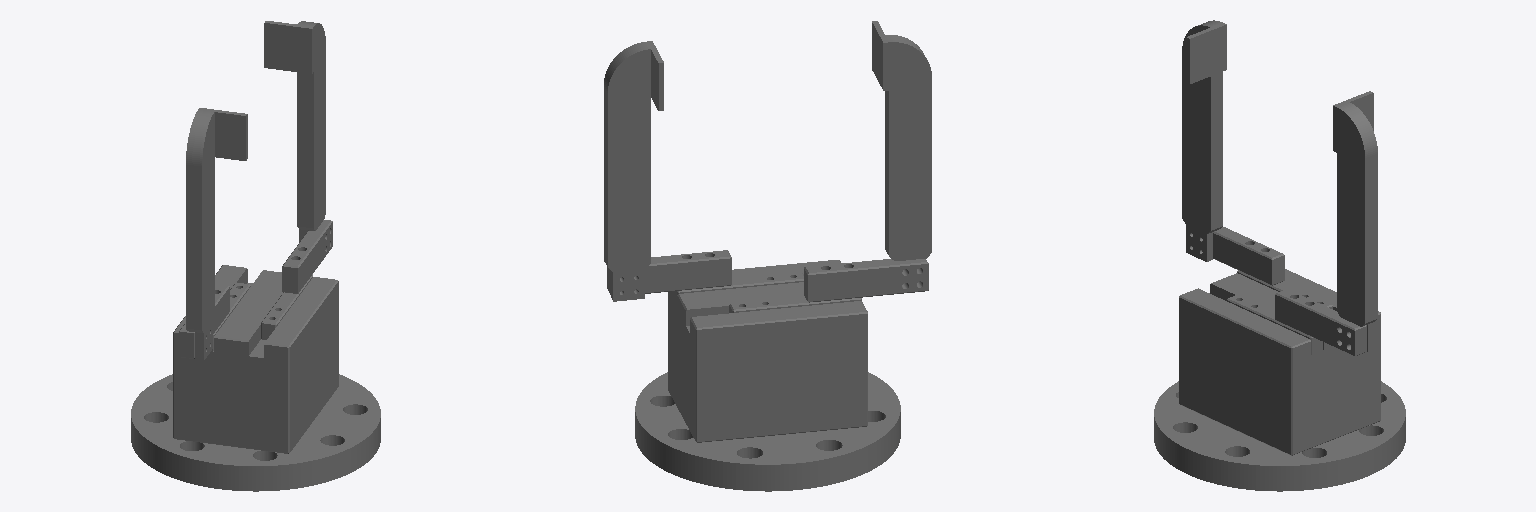
robot.urdf — custom_robots:
<?xml version="1.0" ?>
<robot name="custom_robots" version="1.0">
  <material name="black">
    <color rgba="0.0 0.0 0.0 1.0"/>
  </material>
  <material name="blue">
    <color rgba="0.0 0.0 0.8 1.0"/>
  </material>
  <material name="green">
    <color rgba="0.0 0.8 0.0 1.0"/>
  </material>
  <material name="grey_">
    <color rgba="0.2 0.2 0.2 1.0"/>
  </material>
  <material name="orange">
    <color rgba="1.0 0.423529411765 0.0392156862745 1.0"/>
  </material>
  <material name="brown">
    <color rgba="0.870588235294 0.811764705882 0.764705882353 1.0"/>
  </material>
  <material name="red">
    <color rgba="0.8 0.0 0.0 1.0"/>
  </material>
  <material name="white">
    <color rgba="1.0 1.0 1.0 1.0"/>
  </material>
  <material name="metal">
    <color rgba="0.76862745098 0.749019607843 0.729411764706 1.0"/>
  </material>
  <material name="metal_grey">
    <color rgba="0.501960784314 0.501960784314 0.501960784314 1.0"/>
  </material>
  <material name="metal_white">
    <color rgba="0.866666666667 0.866666666667 0.890196078431 1.0"/>
  </material>
  <link name="base_link"/>
  <joint name="indy0_joint_base_link" type="fixed">
    <origin rpy="0.0 0.0 5.45268230252" xyz="1.26963465725 0.939580893056 0.670907390887"/>
    <parent link="base_link"/>
    <child link="indy0_link0"/>
  </joint>
  <link name="indy0_link0">
    <inertial>
      <origin rpy="0.0 0.0 0.0" xyz="0.0 0.0 0.0"/>
      <mass value="1.59306955"/>
      <inertia ixx="0.00572623" ixy="2.51e-06" ixz="-0.0001138" iyy="0.00558959" iyz="-1.4e-07" izz="0.00966674"/>
    </inertial>
    <visual>
      <origin rpy="0.0 0.0 0.0" xyz="0.0 0.0 0.0"/>
      <geometry>
        <mesh filename="package://indy7_description/meshes/stl/Indy7_0.stl"/>
      </geometry>
      <material name="metal_grey"/>
    </visual>
    <collision>
      <origin rpy="-0.0 1.57079633 0.0" xyz="-0.1 0.0 0.03"/>
      <geometry>
        <cylinder length="0.2" radius="0.05"/>
      </geometry>
    </collision>
  </link>
  <link name="indy0_link1">
    <inertial>
      <origin rpy="0.0 0.0 0.0" xyz="0.0 0.0 0.0"/>
      <mass value="11.8030102"/>
      <inertia ixx="0.15418559" ixy="-2.35e-06" ixz="1.739e-05" iyy="0.12937017" iyz="-0.04854267" izz="0.05964415"/>
    </inertial>
    <visual>
      <origin rpy="0.0 0.0 0.0" xyz="0.0 0.0 0.0"/>
      <geometry>
        <mesh filename="package://indy7_description/meshes/stl/Indy7_1.stl"/>
      </geometry>
      <material name="metal_grey"/>
    </visual>
    <collision>
      <origin rpy="0.0 0.0 0.0" xyz="0.0 0.0 0.072"/>
      <geometry>
        <cylinder length="0.3" radius="0.1"/>
      </geometry>
    </collision>
  </link>
  <link name="indy0_link2">
    <inertial>
      <origin rpy="0.0 0.0 0.0" xyz="0.0 0.0 0.0"/>
      <mass value="7.99292141"/>
      <inertia ixx="0.2935698" ixy="-4e-07" ixz="1.441e-05" iyy="0.28094142" iyz="0.03727972" izz="0.03620609"/>
    </inertial>
    <visual>
      <origin rpy="0.0 0.0 0.0" xyz="0.0 0.0 0.0"/>
      <geometry>
        <mesh filename="package://indy7_description/meshes/stl/Indy7_2.stl"/>
      </geometry>
      <material name="metal_grey"/>
    </visual>
    <collision>
      <origin rpy="1.57079632679 0.0 -1.57079632679" xyz="-0.225 0.0 0.09"/>
      <geometry>
        <cylinder length="0.45" radius="0.073"/>
      </geometry>
    </collision>
    <collision>
      <origin rpy="0.0 0.0 0.0" xyz="0.0 0.0 -0.01"/>
      <geometry>
        <cylinder length="0.2" radius="0.085"/>
      </geometry>
    </collision>
  </link>
  <link name="indy0_link3">
    <inertial>
      <origin rpy="0.0 0.0 0.0" xyz="0.0 0.0 0.0"/>
      <mass value="2.99134127"/>
      <inertia ixx="0.03424593" ixy="1.49e-06" ixz="7.24e-06" iyy="0.03406024" iyz="0.00186009" izz="0.00450477"/>
    </inertial>
    <visual>
      <origin rpy="0.0 0.0 0.0" xyz="0.0 0.0 0.0"/>
      <geometry>
        <mesh filename="package://indy7_description/meshes/stl/Indy7_3.stl"/>
      </geometry>
      <material name="metal_grey"/>
    </visual>
    <collision>
      <origin rpy="0.0 0.0 0.0" xyz="0.0 0.0 0.03"/>
      <geometry>
        <cylinder length="0.2" radius="0.065"/>
      </geometry>
    </collision>
  </link>
  <link name="indy0_link4">
    <inertial>
      <origin rpy="0.0 0.0 0.0" xyz="0.0 0.0 0.0"/>
      <mass value="2.12317035"/>
      <inertia ixx="0.00670405" ixy="3.75e-06" ixz="1.5e-06" iyy="0.00279246" iyz="-0.00127967" izz="0.00619341"/>
    </inertial>
    <visual>
      <origin rpy="0.0 0.0 0.0" xyz="0.0 0.0 0.0"/>
      <geometry>
        <mesh filename="package://indy7_description/meshes/stl/Indy7_4.stl"/>
      </geometry>
      <material name="metal_grey"/>
    </visual>
    <collision>
      <origin rpy="0.0 0.0 0.0" xyz="0.0 0.0 -0.092"/>
      <geometry>
        <cylinder length="0.35" radius="0.06"/>
      </geometry>
    </collision>
  </link>
  <link name="indy0_link5">
    <inertial>
      <origin rpy="0.0 0.0 0.0" xyz="0.0 0.0 0.0"/>
      <mass value="2.28865091"/>
      <inertia ixx="0.00994891" ixy="1.4e-07" ixz="3.21e-06" iyy="0.00978189" iyz="-0.00093546" izz="0.00271492"/>
    </inertial>
    <visual>
      <origin rpy="0.0 0.0 0.0" xyz="0.0 0.0 0.0"/>
      <geometry>
        <mesh filename="package://indy7_description/meshes/stl/Indy7_5.stl"/>
      </geometry>
      <material name="metal_grey"/>
    </visual>
    <collision>
      <origin rpy="0.0 0.0 0.0" xyz="-0.0 0.0 -0.0225"/>
      <geometry>
        <cylinder length="0.183" radius="0.055"/>
      </geometry>
    </collision>
  </link>
  <link name="indy0_link6">
    <inertial>
      <origin rpy="0.0 0.0 0.0" xyz="0.0 0.0 0.0"/>
      <mass value="0.40083918"/>
      <inertia ixx="0.00043534" ixy="1.3e-07" ixz="-2e-08" iyy="0.00044549" iyz="5.1e-07" izz="0.00059634"/>
    </inertial>
    <visual>
      <origin rpy="0.0 0.0 0.0" xyz="0.0 0.0 0.0"/>
      <geometry>
        <mesh filename="package://indy7_description/meshes/stl/Indy7_6.stl"/>
      </geometry>
      <material name="metal_grey"/>
    </visual>
    <collision>
      <origin rpy="0.0 0.0 0.0" xyz="0.0 0.0 -0.038"/>
      <geometry>
        <cylinder length="0.25" radius="0.06"/>
      </geometry>
    </collision>
  </link>
  <link name="indy0_tcp">
    <visual>
      <origin rpy="0.0 0.0 1.570796" xyz="0.0 0.0 0.0"/>
      <geometry>
        <mesh filename="package://my_mesh/meshes/stl/indy_gripper_asm2_res.STL"/>
      </geometry>
      <material name="metal_grey"/>
    </visual>
    <collision>
      <origin rpy="0.0 0.0 0.0" xyz="0.005 0.044 0.1"/>
      <geometry>
        <cylinder length="0.08" radius="0.016"/>
      </geometry>
    </collision>
    <collision>
      <origin rpy="0.0 0.0 0.0" xyz="-0.005 0.044 0.1"/>
      <geometry>
        <cylinder length="0.08" radius="0.016"/>
      </geometry>
    </collision>
    <collision>
      <origin rpy="0.0 0.0 0.0" xyz="0.005 -0.044 0.1"/>
      <geometry>
        <cylinder length="0.08" radius="0.016"/>
      </geometry>
    </collision>
    <collision>
      <origin rpy="0.0 0.0 0.0" xyz="-0.005 -0.044 0.1"/>
      <geometry>
        <cylinder length="0.08" radius="0.016"/>
      </geometry>
    </collision>
  </link>
  <joint name="indy0_joint0" type="revolute">
    <origin rpy="0.0 0.0 0.0" xyz="0.0 0.0 0.0775"/>
    <axis xyz="0.0 0.0 1.0"/>
    <parent link="indy0_link0"/>
    <child link="indy0_link1"/>
    <limit effort="3.14159265359" lower="-3.05432619099" upper="3.05432619099" velocity="1.308996939"/>
  </joint>
  <joint name="indy0_joint1" type="revolute">
    <origin rpy="1.57079632679 1.57079632679 0.0" xyz="0.0 -0.109 0.222"/>
    <axis xyz="0.0 0.0 1.0"/>
    <parent link="indy0_link1"/>
    <child link="indy0_link2"/>
    <limit effort="3.14159265359" lower="-3.05432619099" upper="3.05432619099" velocity="1.308996939"/>
  </joint>
  <joint name="indy0_joint2" type="revolute">
    <origin rpy="0.0 0.0 0.0" xyz="-0.45 0.0 -0.0305"/>
    <axis xyz="0.0 0.0 1.0"/>
    <parent link="indy0_link2"/>
    <child link="indy0_link3"/>
    <limit effort="3.14159265359" lower="-3.05432619099" upper="3.05432619099" velocity="1.308996939"/>
  </joint>
  <joint name="indy0_joint3" type="revolute">
    <origin rpy="-1.57079632679 0.0 1.57079632679" xyz="-0.267 0.0 -0.075"/>
    <axis xyz="0.0 0.0 1.0"/>
    <parent link="indy0_link3"/>
    <child link="indy0_link4"/>
    <limit effort="3.14159265359" lower="-3.05432619099" upper="3.05432619099" velocity="1.57079632679"/>
  </joint>
  <joint name="indy0_joint4" type="revolute">
    <origin rpy="1.57079632679 1.57079632679 0.0" xyz="0.0 -0.114 0.083"/>
    <axis xyz="0.0 0.0 1.0"/>
    <parent link="indy0_link4"/>
    <child link="indy0_link5"/>
    <limit effort="3.14159265359" lower="-3.05432619099" upper="3.05432619099" velocity="1.57079632679"/>
  </joint>
  <joint name="indy0_joint5" type="revolute">
    <origin rpy="-1.57079632679 0.0 1.57079632679" xyz="-0.168 0.0 0.069"/>
    <axis xyz="0.0 0.0 1.0"/>
    <parent link="indy0_link5"/>
    <child link="indy0_link6"/>
    <limit effort="3.14159265359" lower="-3.75245789179" upper="3.75245789179" velocity="1.57079632679"/>
  </joint>
  <joint name="indy0_tcp" type="fixed">
    <origin rpy="0.0 0.0 0.0" xyz="0.0 0.0 0.06"/>
    <parent link="indy0_link6"/>
    <child link="indy0_tcp"/>
  </joint>
  <transmission name="indy0_tran0">
    <type>transmission_interface/SimpleTransmission</type>
    <joint name="indy0_joint0">
      <hardwareInterface>PositionJointInterface</hardwareInterface>
    </joint>
    <actuator name="indy0_motor0">
      <mechanicalReduction>1.0</mechanicalReduction>
    </actuator>
  </transmission>
  <transmission name="indy0_tran1">
    <type>transmission_interface/SimpleTransmission</type>
    <joint name="indy0_joint1">
      <hardwareInterface>PositionJointInterface</hardwareInterface>
    </joint>
    <actuator name="indy0_motor1">
      <mechanicalReduction>1.0</mechanicalReduction>
    </actuator>
  </transmission>
  <transmission name="indy0_tran2">
    <type>transmission_interface/SimpleTransmission</type>
    <joint name="indy0_joint2">
      <hardwareInterface>PositionJointInterface</hardwareInterface>
    </joint>
    <actuator name="indy0_motor2">
      <mechanicalReduction>1.0</mechanicalReduction>
    </actuator>
  </transmission>
  <transmission name="indy0_tran3">
    <type>transmission_interface/SimpleTransmission</type>
    <joint name="indy0_joint3">
      <hardwareInterface>PositionJointInterface</hardwareInterface>
    </joint>
    <actuator name="indy0_motor3">
      <mechanicalReduction>1.0</mechanicalReduction>
    </actuator>
  </transmission>
  <transmission name="indy0_tran4">
    <type>transmission_interface/SimpleTransmission</type>
    <joint name="indy0_joint4">
      <hardwareInterface>PositionJointInterface</hardwareInterface>
    </joint>
    <actuator name="indy0_motor4">
      <mechanicalReduction>1.0</mechanicalReduction>
    </actuator>
  </transmission>
  <transmission name="indy0_tran5">
    <type>transmission_interface/SimpleTransmission</type>
    <joint name="indy0_joint5">
      <hardwareInterface>PositionJointInterface</hardwareInterface>
    </joint>
    <actuator name="indy0_motor5">
      <mechanicalReduction>1.0</mechanicalReduction>
    </actuator>
  </transmission>
  <joint name="panda1_joint_base_link" type="fixed">
    <origin rpy="0.0 -0.0 0.0" xyz="-0.0 -0.0 -0.0"/>
    <parent link="panda1_link0"/>
    <child link="base_link"/>
  </joint>
  <link name="panda1_link0">
    <visual>
      <origin rpy="0.0 -0.0 0.0" xyz="0.0 0.0 0.0"/>
      <geometry>
        <mesh filename="package://franka_description/meshes/visual/link0.dae"/>
      </geometry>
    </visual>
    <collision>
      <origin rpy="3.14159265 -1.37340076987 3.14159265" xyz="-0.0299999993294 0.0 0.0299999993294"/>
      <geometry>
        <cylinder length="0.102" radius="0.1"/>
      </geometry>
    </collision>
    <collision>
      <origin rpy="1.57079633 -0.0 0.0" xyz="-0.0500000007451 0.0 0.0299999993294"/>
      <geometry>
        <cylinder length="0.3" radius="0.05"/>
      </geometry>
    </collision>
  </link>
  <link name="panda1_link1">
    <visual>
      <origin rpy="0.0 -0.0 0.0" xyz="0.0 0.0 0.0"/>
      <geometry>
        <mesh filename="package://franka_description/meshes/visual/link1.dae"/>
      </geometry>
    </visual>
    <collision>
      <origin rpy="-2.71183038127 -0.0 0.0" xyz="0.0 -0.027499999851 -0.0750000029802"/>
      <geometry>
        <cylinder length="0.132" radius="0.11"/>
      </geometry>
    </collision>
  </link>
  <joint name="panda1_joint1" type="revolute">
    <origin rpy="0.0 -0.0 0.0" xyz="-0.0 -0.0 -0.0"/>
    <axis xyz="0.0 0.0 1.0"/>
    <parent link="panda1_link1"/>
    <child link="panda1_link0"/>
    <limit effort="3.14159265359" lower="-0.0479965544298" upper="0.0479965544298" velocity="1.308996939"/>
    <safety_controller k_position="100.0" k_velocity="40.0" soft_lower_limit="-2.8973" soft_upper_limit="2.8973"/>
  </joint>
  <link name="panda1_link2">
    <visual>
      <origin rpy="0.0 -0.0 0.0" xyz="0.0 0.0 0.0"/>
      <geometry>
        <mesh filename="package://franka_description/meshes/visual/link2.dae"/>
      </geometry>
    </visual>
    <collision>
      <origin rpy="1.98320677181 -0.0 0.0" xyz="0.0 -0.0799999982119 0.035000000149"/>
      <geometry>
        <cylinder length="0.175" radius="0.09"/>
      </geometry>
    </collision>
  </link>
  <joint name="panda1_joint2" type="revolute">
    <origin rpy="0.0 -0.0 0.0" xyz="-0.0 -0.0 -0.0"/>
    <axis xyz="0.0 0.0 1.0"/>
    <parent link="panda1_link2"/>
    <child link="panda1_link1"/>
    <limit effort="3.14159265359" lower="-0.0296705972839" upper="0.0296705972839" velocity="1.308996939"/>
    <safety_controller k_position="100.0" k_velocity="40.0" soft_lower_limit="-1.7628" soft_upper_limit="1.7628"/>
  </joint>
  <link name="panda1_link3">
    <visual>
      <origin rpy="0.0 -0.0 0.0" xyz="0.0 0.0 0.0"/>
      <geometry>
        <mesh filename="package://franka_description/meshes/visual/link3.dae"/>
      </geometry>
    </visual>
    <collision>
      <origin rpy="2.48451770333 -0.735512370241 -1.69290814136" xyz="0.0399999991059 0.0270000007004 -0.035000000149"/>
      <geometry>
        <cylinder length="0.12" radius="0.09"/>
      </geometry>
    </collision>
  </link>
  <joint name="panda1_joint3" type="revolute">
    <origin rpy="0.0 -0.0 0.0" xyz="-0.0 -0.0 -0.0"/>
    <axis xyz="0.0 0.0 1.0"/>
    <parent link="panda1_link3"/>
    <child link="panda1_link2"/>
    <limit effort="3.14159265359" lower="-0.0479965544298" upper="0.0479965544298" velocity="1.308996939"/>
    <safety_controller k_position="100.0" k_velocity="40.0" soft_lower_limit="-2.8973" soft_upper_limit="2.8973"/>
  </joint>
  <link name="panda1_link4">
    <visual>
      <origin rpy="0.0 -0.0 0.0" xyz="0.0 0.0 0.0"/>
      <geometry>
        <mesh filename="package://franka_description/meshes/visual/link4.dae"/>
      </geometry>
    </visual>
    <collision>
      <origin rpy="-2.00647919366 -0.714569383314 1.05945849355" xyz="-0.0555000007153 0.0579999983311 0.0270000007004"/>
      <geometry>
        <cylinder length="0.17" radius="0.08"/>
      </geometry>
    </collision>
  </link>
  <joint name="panda1_joint4" type="revolute">
    <origin rpy="0.0 -0.0 0.0" xyz="-0.0 -0.0 -0.0"/>
    <axis xyz="0.0 0.0 1.0"/>
    <parent link="panda1_link4"/>
    <child link="panda1_link3"/>
    <limit effort="3.14159265359" lower="-0.0506145483078" upper="-0.00174532925199" velocity="1.308996939"/>
    <safety_controller k_position="100.0" k_velocity="40.0" soft_lower_limit="-3.0718" soft_upper_limit="-0.0698"/>
  </joint>
  <link name="panda1_link5">
    <visual>
      <origin rpy="0.0 -0.0 0.0" xyz="0.0 0.0 0.0"/>
      <geometry>
        <mesh filename="package://franka_description/meshes/visual/link5.dae"/>
      </geometry>
    </visual>
    <collision>
      <origin rpy="2.87423727506 -0.0 0.0" xyz="0.0 0.0315000005066 -0.115000002086"/>
      <geometry>
        <cylinder length="0.238" radius="0.08"/>
      </geometry>
    </collision>
  </link>
  <joint name="panda1_joint5" type="revolute">
    <origin rpy="0.0 -0.0 0.0" xyz="-0.0 -0.0 -0.0"/>
    <axis xyz="0.0 0.0 1.0"/>
    <parent link="panda1_link5"/>
    <child link="panda1_link4"/>
    <limit effort="3.14159265359" lower="-0.0479965544298" upper="0.0479965544298" velocity="1.57079632679"/>
    <safety_controller k_position="100.0" k_velocity="40.0" soft_lower_limit="-2.8973" soft_upper_limit="2.8973"/>
  </joint>
  <link name="panda1_link6">
    <visual>
      <origin rpy="0.0 -0.0 0.0" xyz="0.0 0.0 0.0"/>
      <geometry>
        <mesh filename="package://franka_description/meshes/visual/link6.dae"/>
      </geometry>
    </visual>
    <collision>
      <origin rpy="-0.0 -1.57079632359 0.0" xyz="0.035000000149 0.0 0.0"/>
      <geometry>
        <cylinder length="0.09" radius="0.065"/>
      </geometry>
    </collision>
    <collision>
      <origin rpy="1.57079633 -0.0 0.0" xyz="0.0900000035763 -0.00999999977648 0.0"/>
      <geometry>
        <cylinder length="0.13" radius="0.05"/>
      </geometry>
    </collision>
    <collision>
      <origin rpy="0.199999994623 1.57079632359 0.0" xyz="0.0850000008941 0.0500000007451 0.0"/>
      <geometry>
        <cylinder length="0.08" radius="0.04"/>
      </geometry>
    </collision>
  </link>
  <joint name="panda1_joint6" type="revolute">
    <origin rpy="0.0 -0.0 0.0" xyz="-0.0 -0.0 -0.0"/>
    <axis xyz="0.0 0.0 1.0"/>
    <parent link="panda1_link6"/>
    <child link="panda1_link5"/>
    <limit effort="3.14159265359" lower="0.00174532925199" upper="0.0628318530718" velocity="1.57079632679"/>
    <safety_controller k_position="100.0" k_velocity="40.0" soft_lower_limit="-0.0175" soft_upper_limit="3.7525"/>
  </joint>
  <link name="panda1_link7">
    <visual>
      <origin rpy="0.0 -0.0 0.0" xyz="0.0 0.0 0.0"/>
      <geometry>
        <mesh filename="package://franka_description/meshes/visual/link7.dae"/>
      </geometry>
    </visual>
  </link>
  <joint name="panda1_joint7" type="revolute">
    <origin rpy="0.0 -0.0 0.0" xyz="-0.0 -0.0 -0.0"/>
    <axis xyz="0.0 0.0 1.0"/>
    <parent link="panda1_link7"/>
    <child link="panda1_link6"/>
    <limit effort="3.14159265359" lower="-0.0479965544298" upper="0.0479965544298" velocity="1.57079632679"/>
    <safety_controller k_position="100.0" k_velocity="40.0" soft_lower_limit="-2.8973" soft_upper_limit="2.8973"/>
  </joint>
  <link name="panda1_link8"/>
  <joint name="panda1_joint8" type="fixed">
    <origin rpy="0.0 -0.0 0.0" xyz="-0.0 -0.0 -0.0"/>
    <axis xyz="0.0 0.0 0.0"/>
    <parent link="panda1_link8"/>
    <child link="panda1_link7"/>
  </joint>
  <joint name="panda1_hand_joint" type="fixed">
    <origin rpy="0.0 -0.0 0.0" xyz="0.0 0.0 0.0"/>
    <parent link="panda1_hand"/>
    <child link="panda1_link8"/>
  </joint>
  <link name="panda1_hand">
    <visual>
      <origin rpy="0.0 -0.0 0.0" xyz="0.0 0.0 0.0"/>
      <geometry>
        <mesh filename="package://franka_description/meshes/visual/hand.dae"/>
      </geometry>
    </visual>
    <collision>
      <origin rpy="1.57079633 -0.0 0.0" xyz="0.0 0.0 0.0299999993294"/>
      <geometry>
        <cylinder length="0.16" radius="0.045"/>
      </geometry>
    </collision>
    <collision>
      <origin rpy="-0.0 1.57079632359 0.0" xyz="0.0 0.070000000298 -0.019999999553"/>
      <geometry>
        <cylinder length="0.055" radius="0.02"/>
      </geometry>
    </collision>
    <collision>
      <origin rpy="1.57079633 -0.0 0.0" xyz="0.0 -0.070000000298 -0.019999999553"/>
      <geometry>
        <cylinder length="0.05" radius="0.01"/>
      </geometry>
    </collision>
  </link>
  <link name="panda1_leftfinger">
    <visual>
      <geometry>
        <mesh filename="package://franka_description/meshes/visual/finger.dae"/>
      </geometry>
    </visual>
    <collision>
      <origin rpy="-2.73268482 0.0 0.0" xyz="0.0 0.0135 0.035"/>
      <geometry>
        <cylinder length="0.0325" radius="0.018"/>
      </geometry>
    </collision>
  </link>
  <link name="panda1_rightfinger">
    <visual>
      <origin rpy="0.0 0.0 3.14159265359" xyz="0.0 0.0 0.0"/>
      <geometry>
        <mesh filename="package://franka_description/meshes/visual/finger.dae"/>
      </geometry>
    </visual>
    <collision>
      <origin rpy="-2.73268482 0.0 -3.14159265" xyz="0.0 -0.0135 0.035"/>
      <geometry>
        <cylinder length="0.0325" radius="0.018"/>
      </geometry>
    </collision>
  </link>
  <joint name="panda1_finger_joint1" type="fixed">
    <origin rpy="0.0 0.0 0.0" xyz="0.0 0.04 0.0584"/>
    <parent link="panda1_hand"/>
    <child link="panda1_leftfinger"/>
  </joint>
  <joint name="panda1_finger_joint2" type="fixed">
    <origin rpy="0.0 0.0 0.0" xyz="0.0 -0.04 0.0584"/>
    <parent link="panda1_hand"/>
    <child link="panda1_rightfinger"/>
    <mimic joint="panda1_finger_joint1"/>
  </joint>
</robot>

--- What the picture shows (computed from the rendered views, not written in the file) ---
Views: 3 orthographic renders of the robot side by side, from view 1: azimuth 30°, elevation 25°; view 2: azimuth 150°, elevation 25°; view 3: azimuth 270°, elevation 25°.
Robot: custom_robots — 21 links, 20 joints (13 revolute, 7 fixed); root link panda1_hand; default pose: joints at zero except 2 at the middle of their limits (panda1_joint4 = -0.0262, panda1_joint6 = 0.0323).
Links seen in each view (by area): view 1: indy0_tcp; view 2: indy0_tcp; view 3: indy0_tcp.
Link boxes in pixels (x1,y1,x2,y2): indy0_tcp: (131, 21, 380, 491); indy0_tcp: (604, 21, 931, 491); indy0_tcp: (1154, 20, 1405, 491).
Size in the robot's own frame: 0.0949 by 0.09 by 0.1472 metres.
1 mesh visuals loaded from 18 distinct referenced files (1 binary STL); not drawn: 18 (reference not matched to a file when rendering).